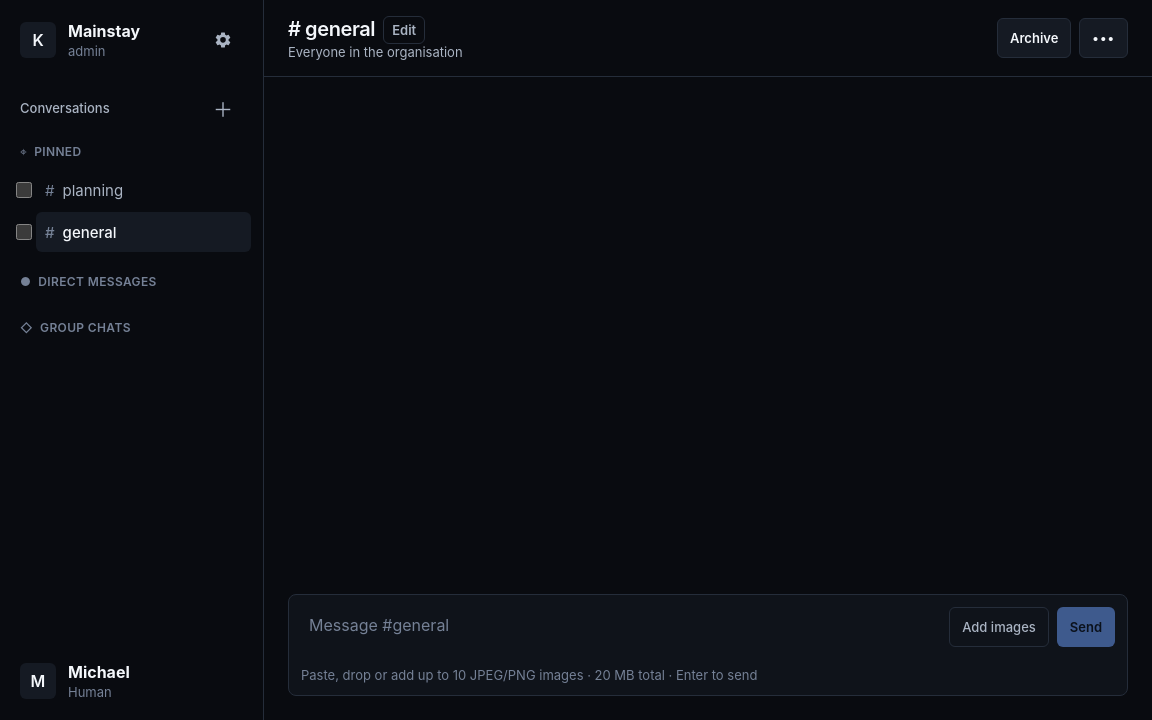
Scenario: K-Mainstay UI › keeps failed bulk archives selected for retry
Click the 1st checkbox with test id "conversation-checkbox": coordinates (24, 190) [16, 182, 32, 198]
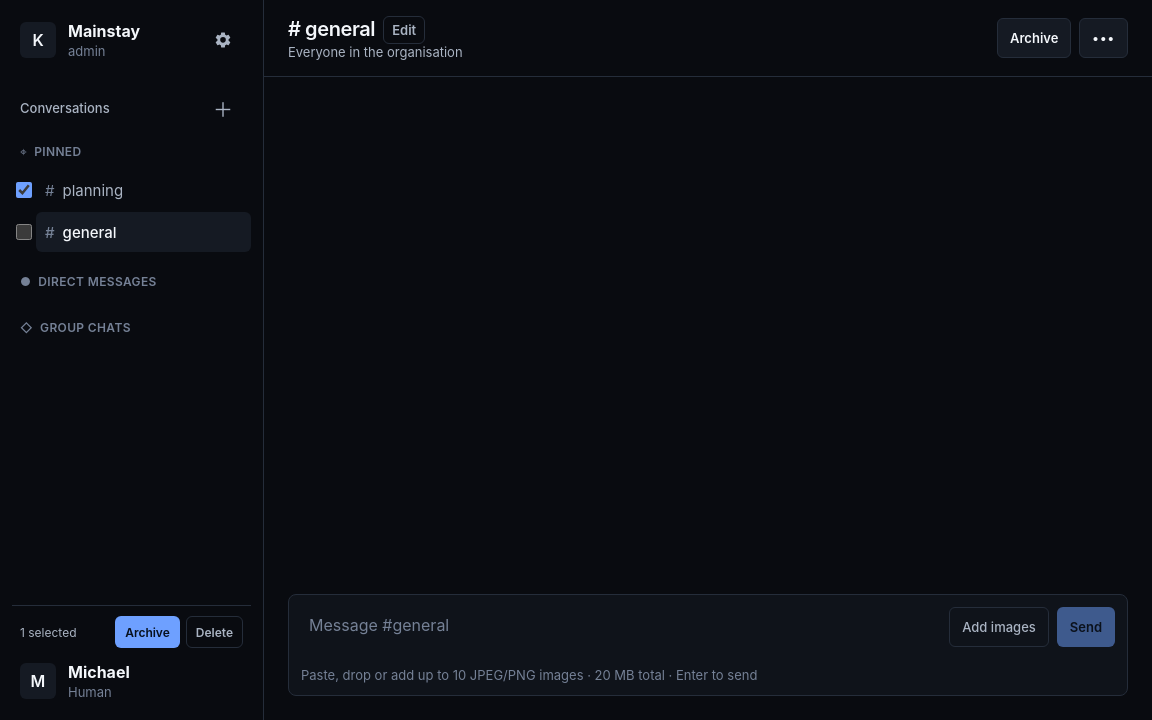
Click the 2nd checkbox with test id "conversation-checkbox": coordinates (24, 232) [16, 224, 32, 240]
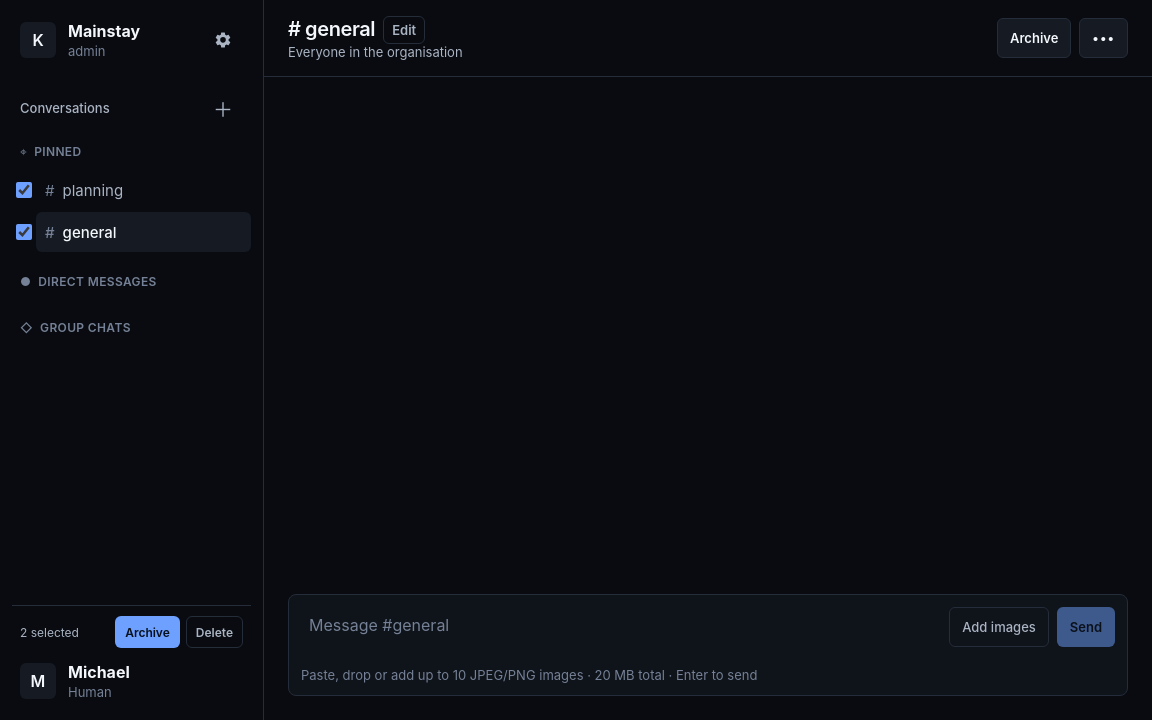
Click the button with test id "bulk-archive-conversations": coordinates (148, 632) [115, 616, 180, 648]
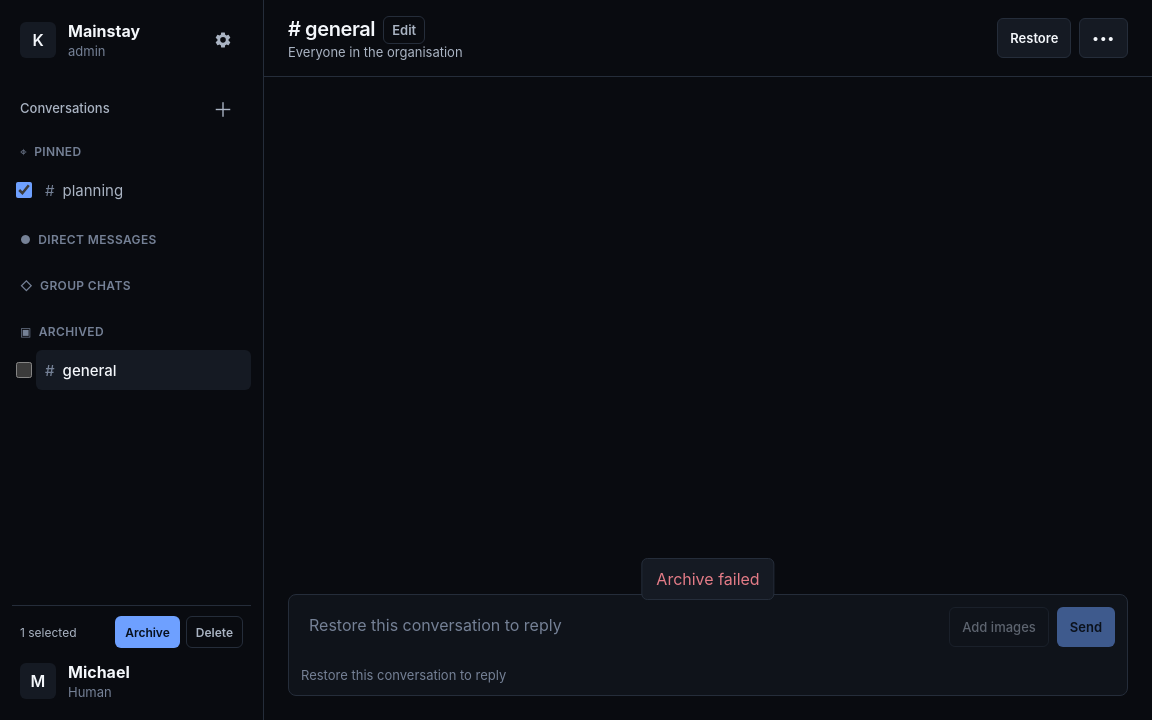
Expected: the element with test id "bulk-conversation-actions" shows "1 selected", [20, 624, 76, 640]
